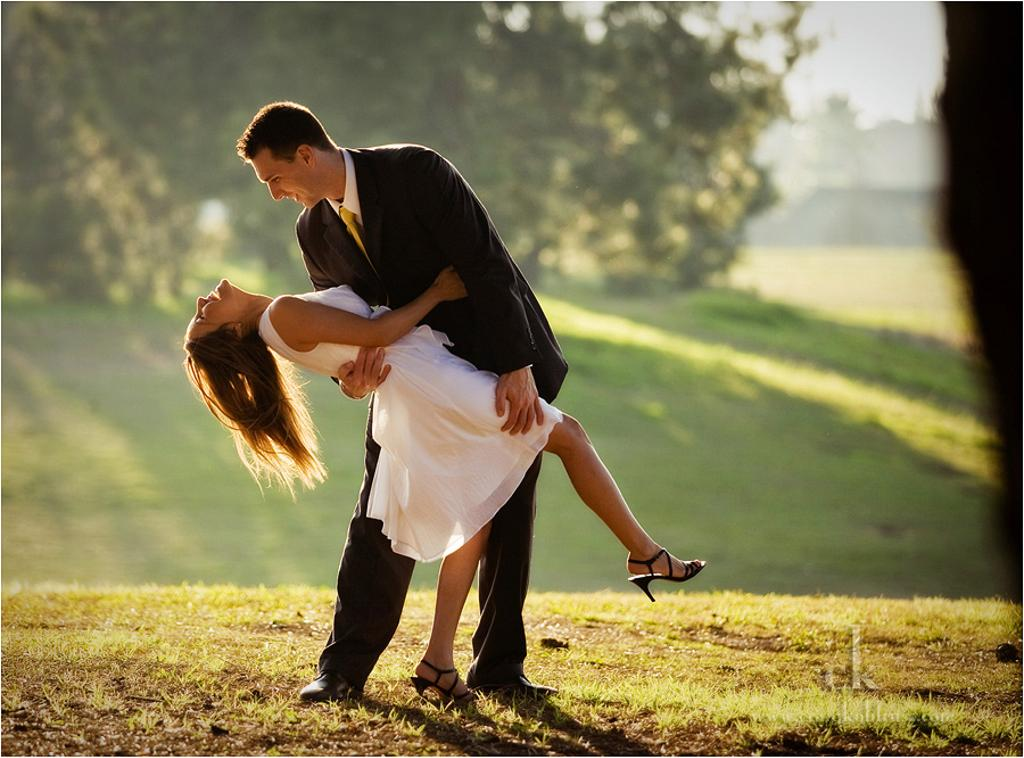face: (252, 152, 318, 204), (188, 280, 250, 334)
